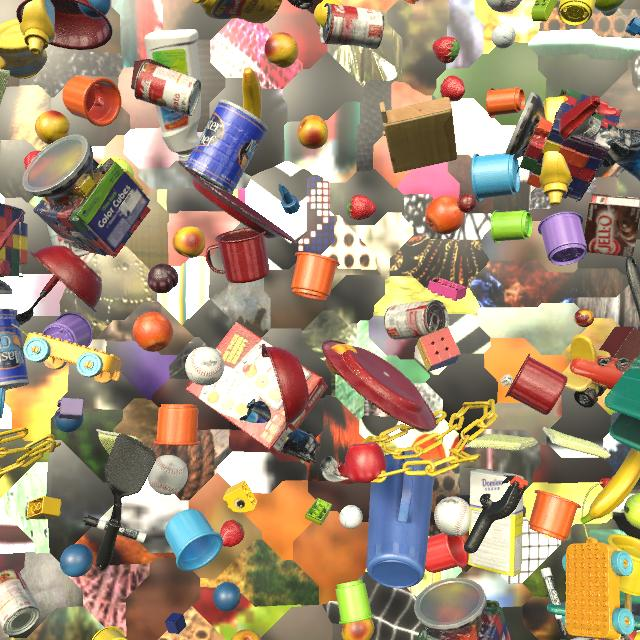ycb_002_master_chef_can: (184, 99, 268, 195), (0, 309, 30, 390)
ycb_003_cracker_box: (186, 322, 328, 455)
ycb_004_sugar_box: (467, 469, 524, 577)
ycb_005_tomato_soup_can: (134, 61, 201, 116), (320, 3, 384, 49), (0, 569, 40, 636), (384, 300, 449, 340)
ycb_006_mustard_bottle: (539, 96, 572, 206), (0, 19, 47, 79), (192, 0, 283, 24), (20, 0, 55, 55)
ycb_008_pudding_box: (584, 193, 640, 257), (46, 223, 90, 257)
ycb_011_banana: (580, 448, 640, 524), (242, 67, 262, 120)
ycb_012_strawberry: (432, 37, 460, 64), (347, 195, 376, 220), (440, 75, 465, 102), (220, 520, 244, 547), (24, 150, 41, 169)
ycb_013_apple: (345, 442, 386, 483)
ycb_014_lemon: (314, 0, 343, 27)
ycb_015_peach: (35, 110, 70, 145), (265, 32, 298, 68), (172, 227, 206, 258), (297, 115, 328, 149), (326, 344, 358, 375), (342, 618, 374, 640), (231, 629, 261, 640)
ycb_016_pear: (594, 0, 625, 16)
ycb_017_orange: (133, 312, 173, 352), (425, 195, 465, 235)
ycb_018_plum: (147, 263, 179, 294)
